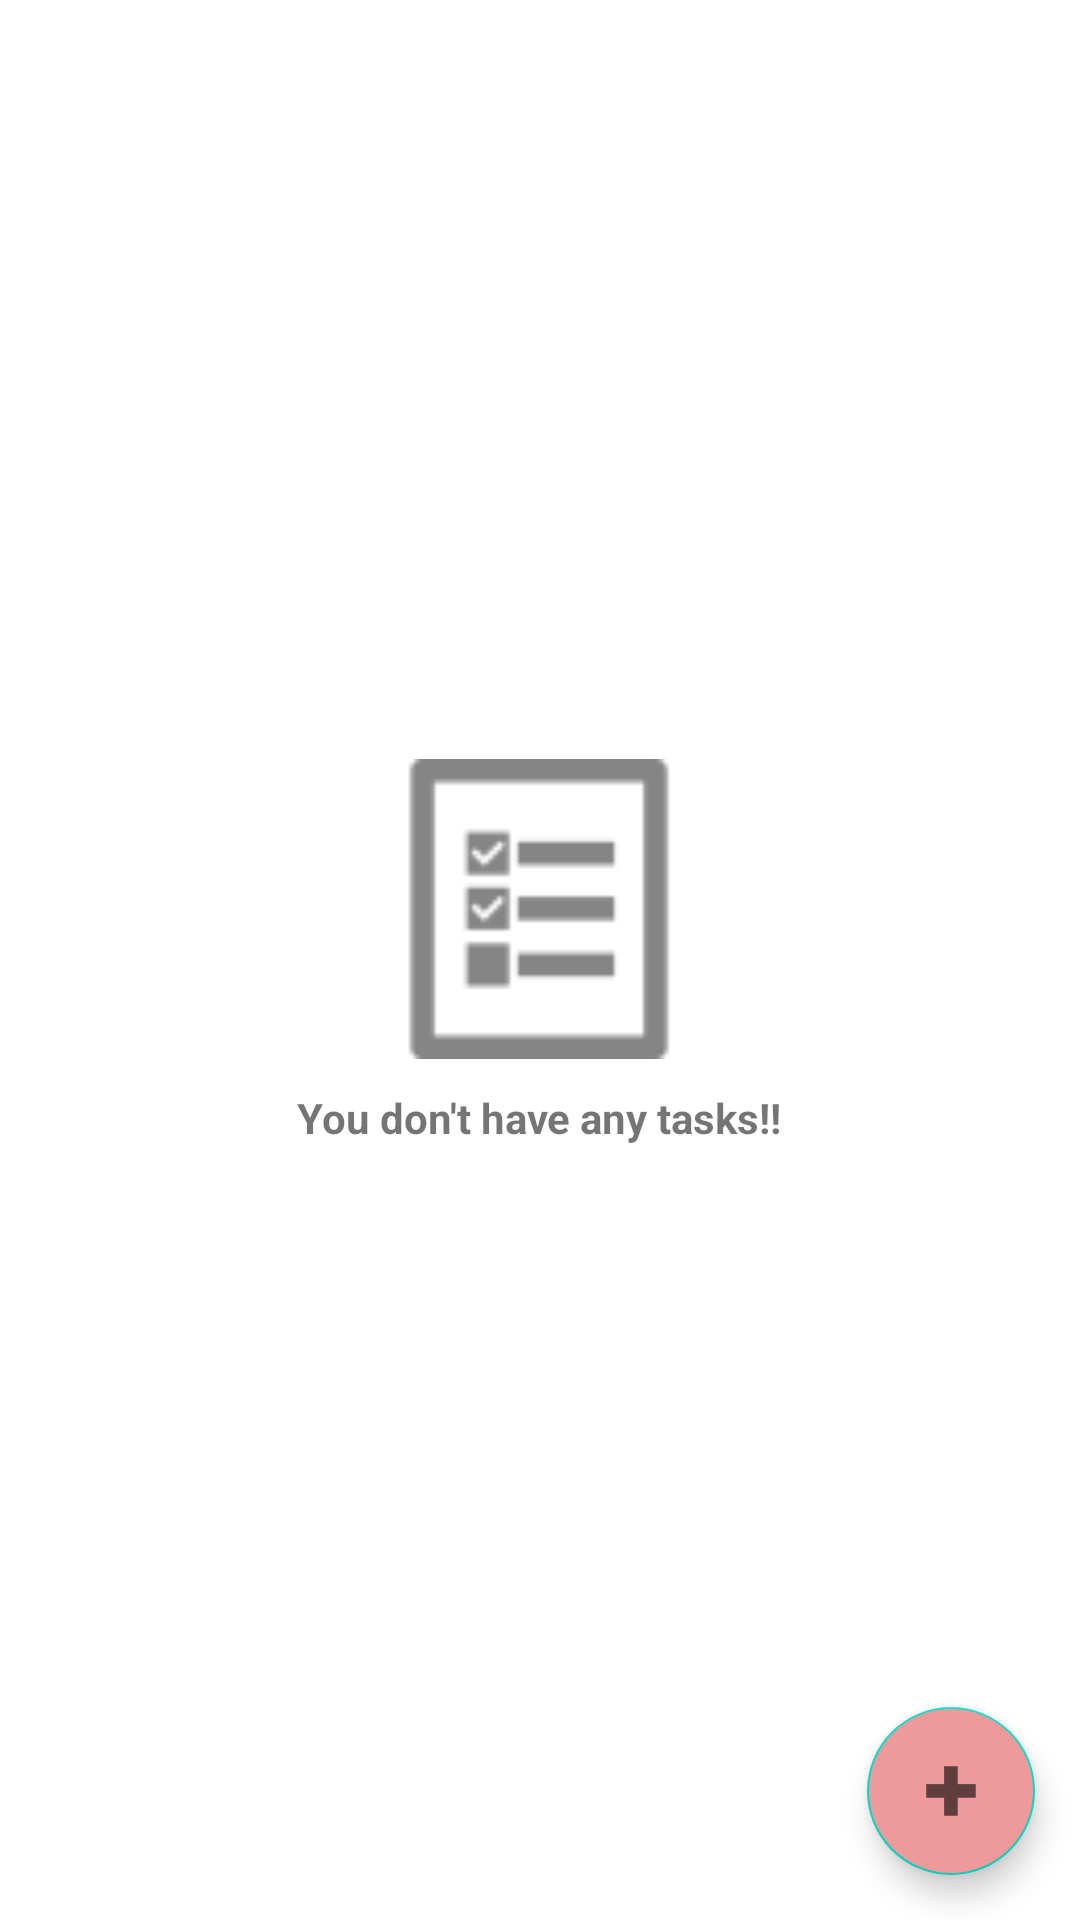

Icon click points for this 1080w x 1920h phone screenshot, format (x=x, y=y):
add: (x=951, y=1791)
to do list: (x=539, y=909)
